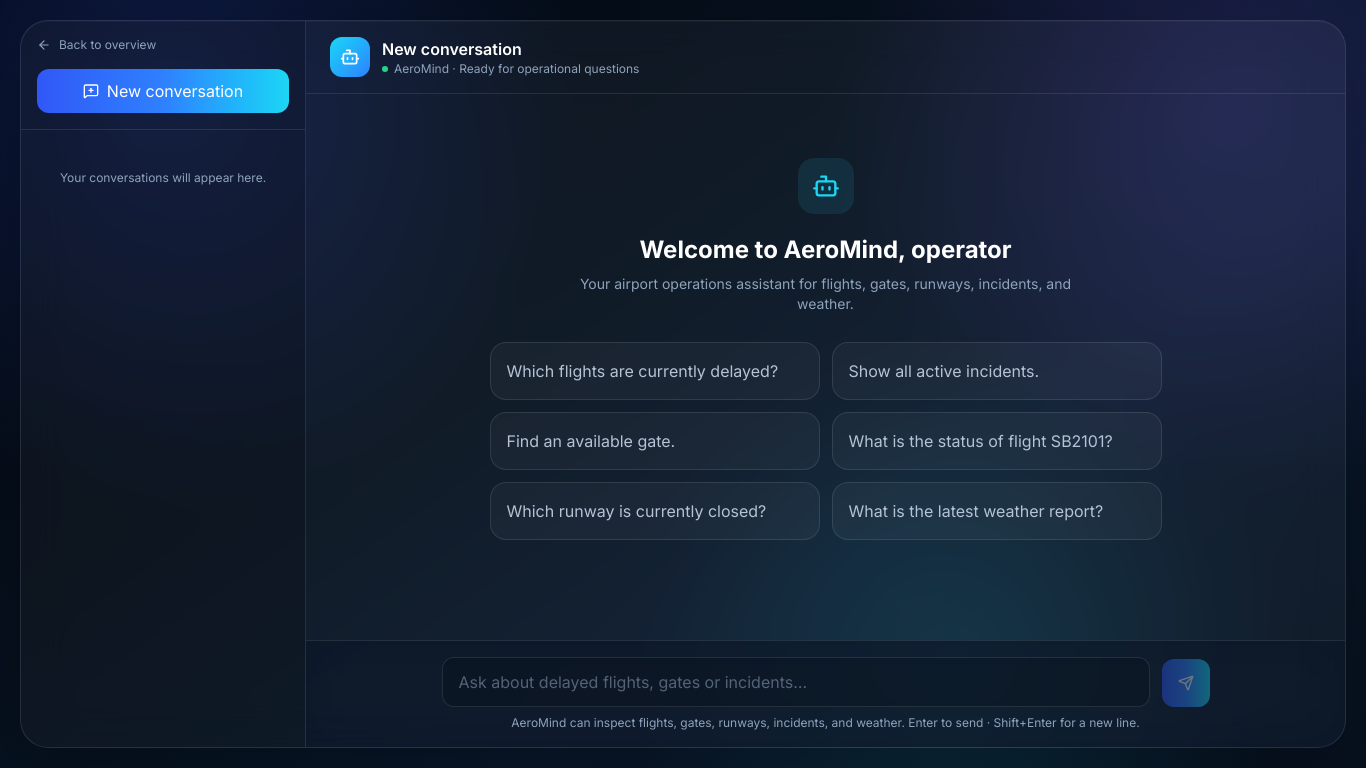
Test case: ChatPage submission › submits the exact prompt and renders the assistant response
Type "Explain the status of PW2018" into the text box with placeholder "Ask about delayed flights, gates or incidents…" at (796, 682), box x1=442 y1=657 x2=1150 y2=707
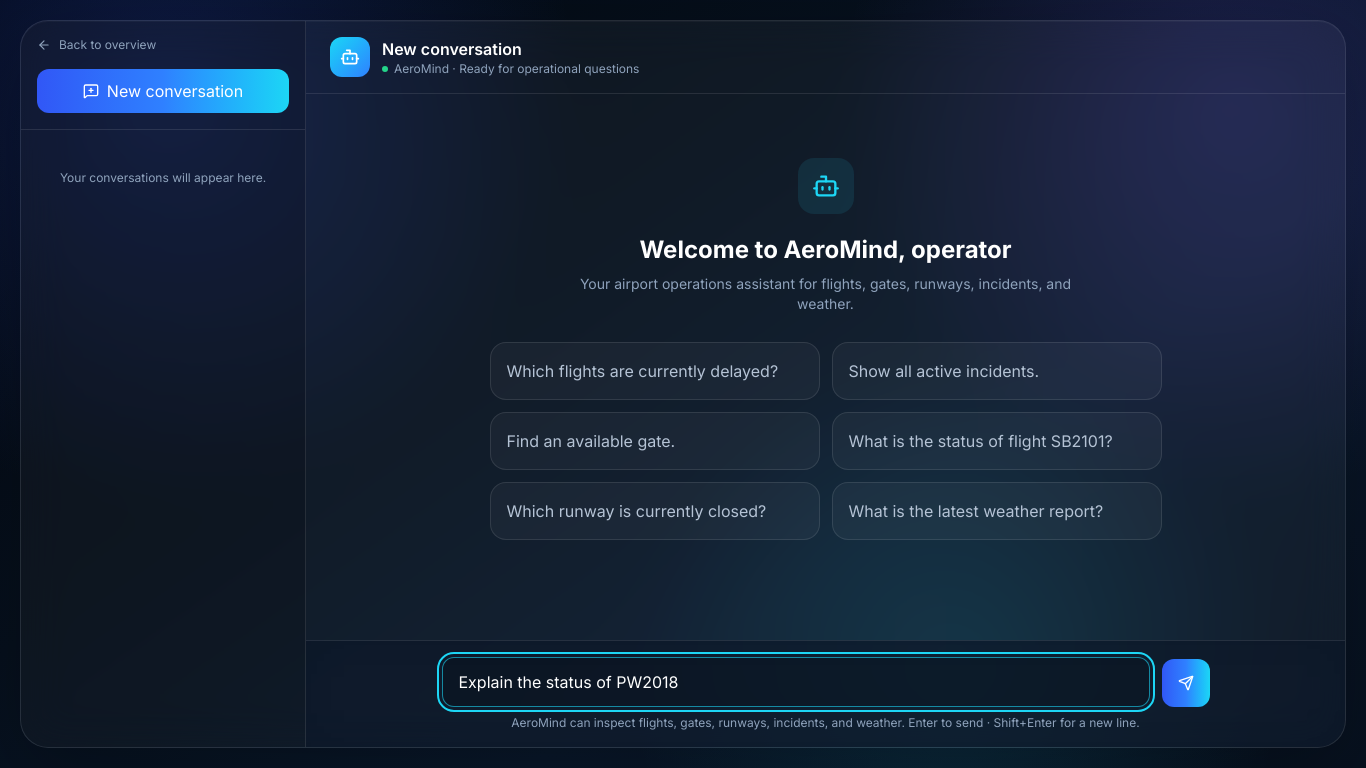
Click the button named "Send message" at (1186, 683), box x1=1162 y1=659 x2=1210 y2=707
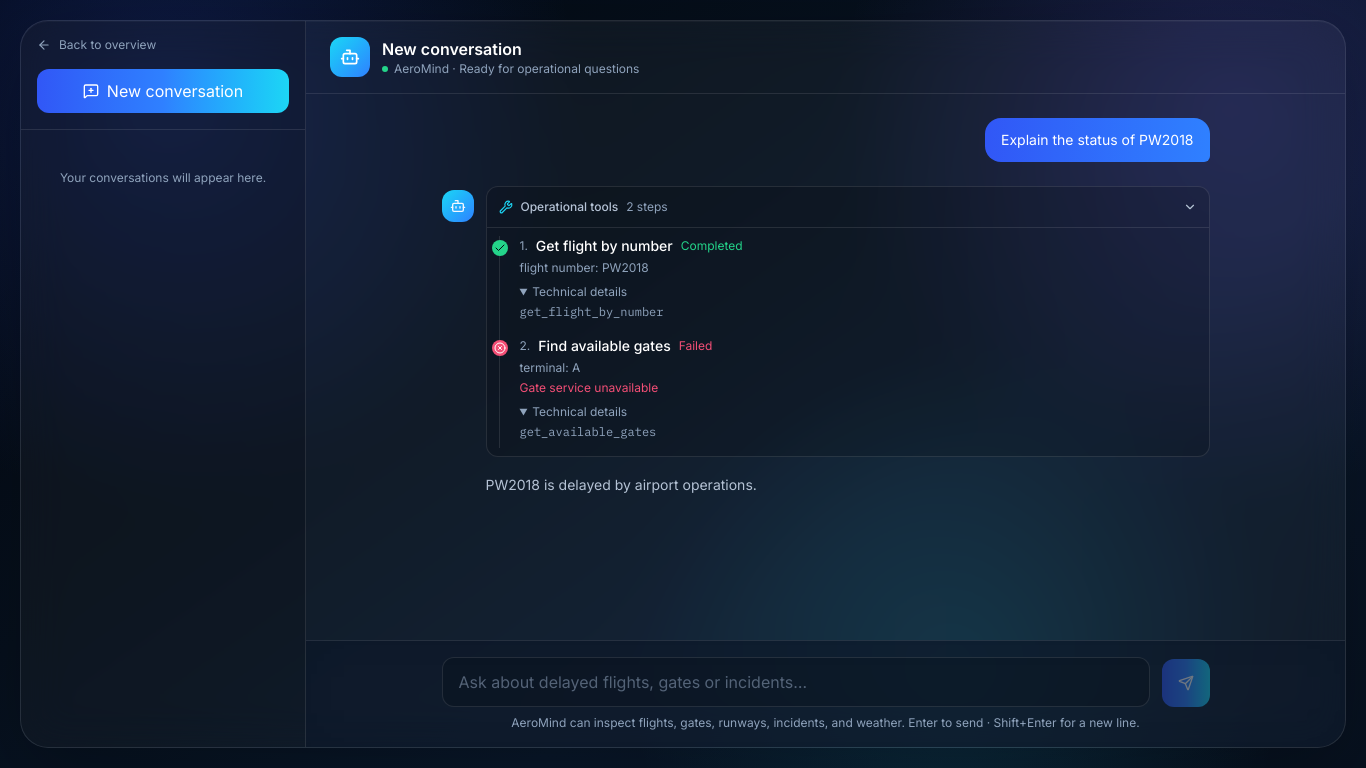
expect the text "PW2018 is delayed by airport operations." is shown: met, box x1=486 y1=476 x2=757 y2=493
expect the text "get_flight_by_number" is shown: met, box x1=520 y1=304 x2=664 y2=319
